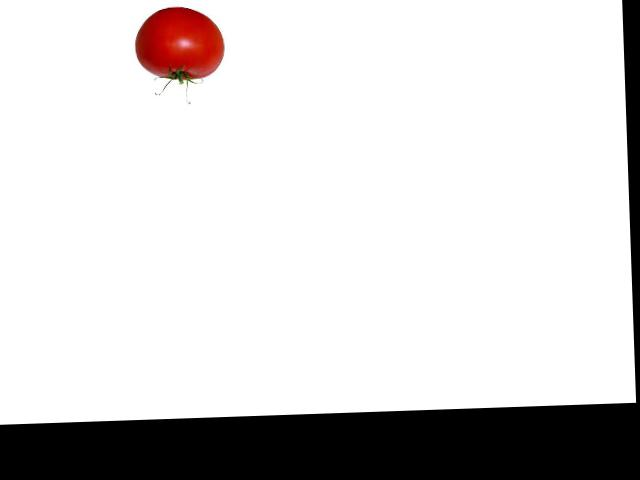tomato: (134, 5, 226, 81)
